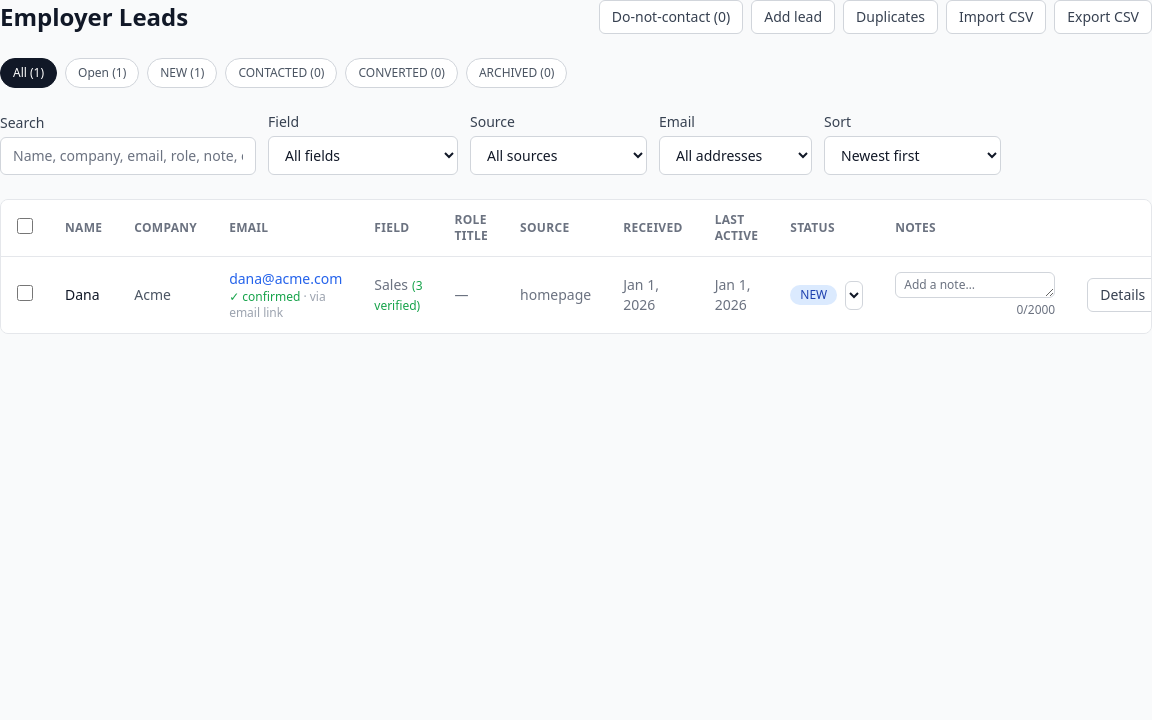
Test: AdminLeads — mail suppression in the do-not-contact modal › shows the note and lifts both lists with includeMailSuppression
This screenshot has width=1152, height=720.
Click the button "Do-not-contact (0)" at (671, 17), box x1=599 y1=0 x2=743 y2=34
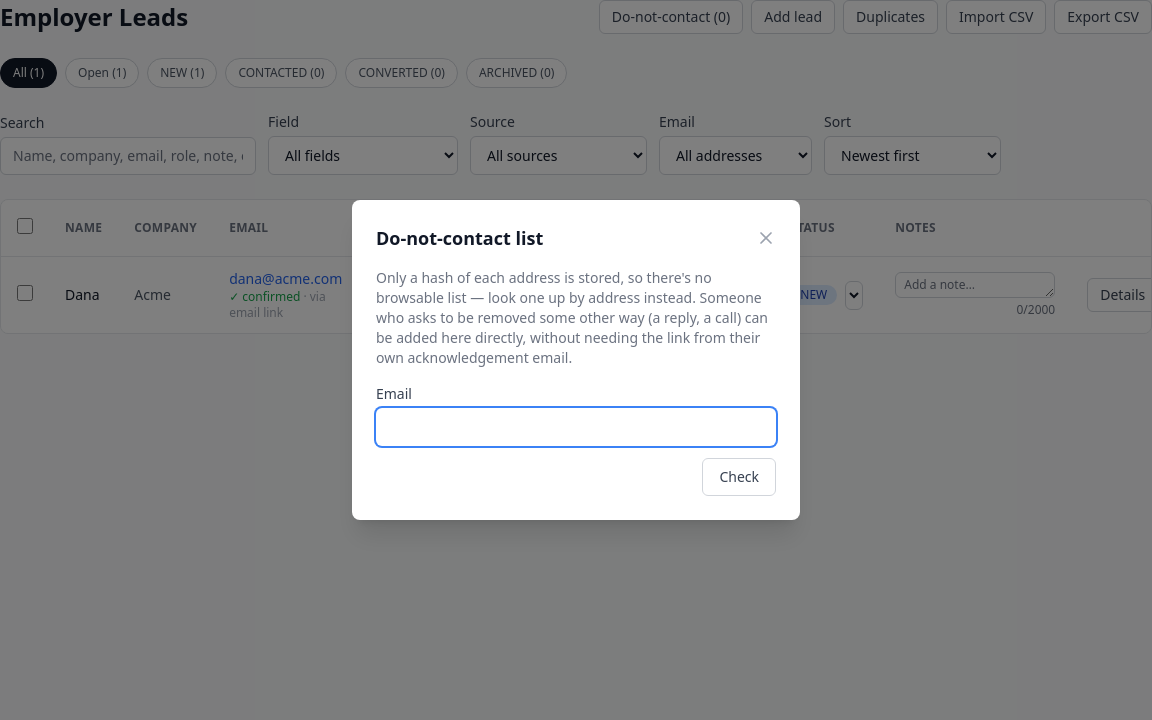
Type "bounce@x.com" into the field labelled "Email" at (576, 427), box x1=376 y1=408 x2=776 y2=446
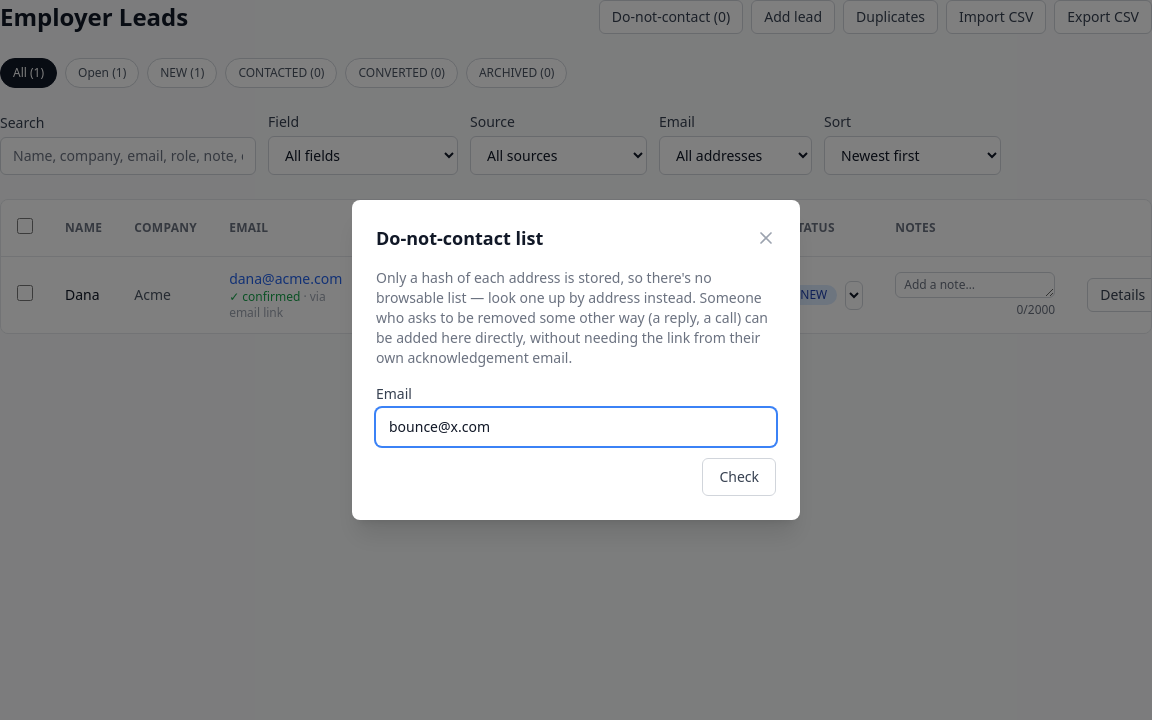
Click the button "Check" at (739, 477), box x1=702 y1=458 x2=776 y2=496
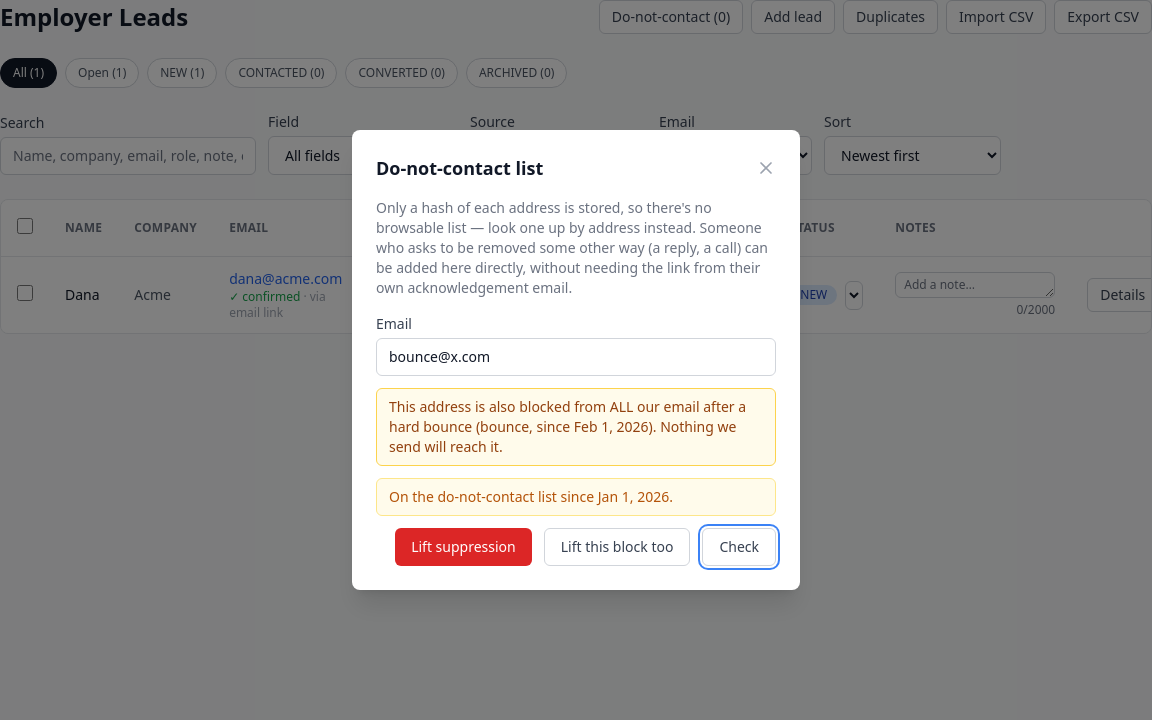
Now the text "blocked from ALL our email" is shown, box x1=389 y1=397 x2=746 y2=416
Now the text "Nothing we send will reach it" is shown, box x1=389 y1=417 x2=736 y2=456
Click the button "Lift this block too" at (617, 547), box x1=544 y1=528 x2=690 y2=566
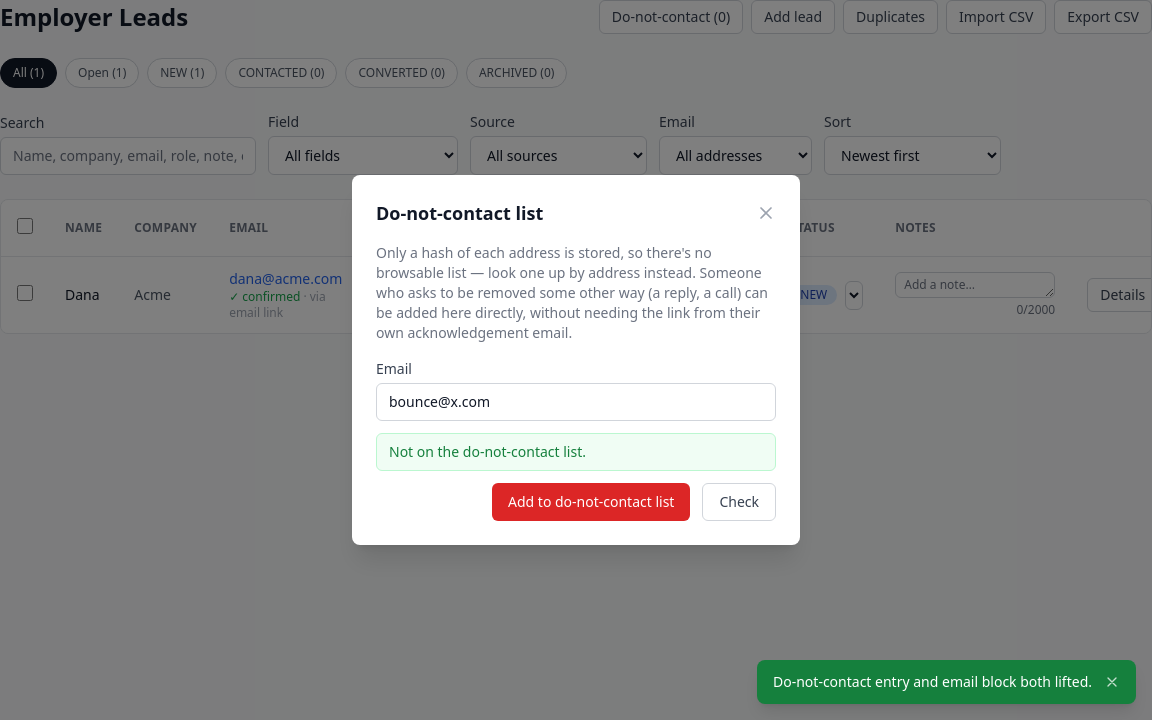
Now the text "Do-not-contact entry and email block both lifted." is shown, box x1=773 y1=672 x2=1092 y2=692
Now the text "blocked from ALL our email" is gone
